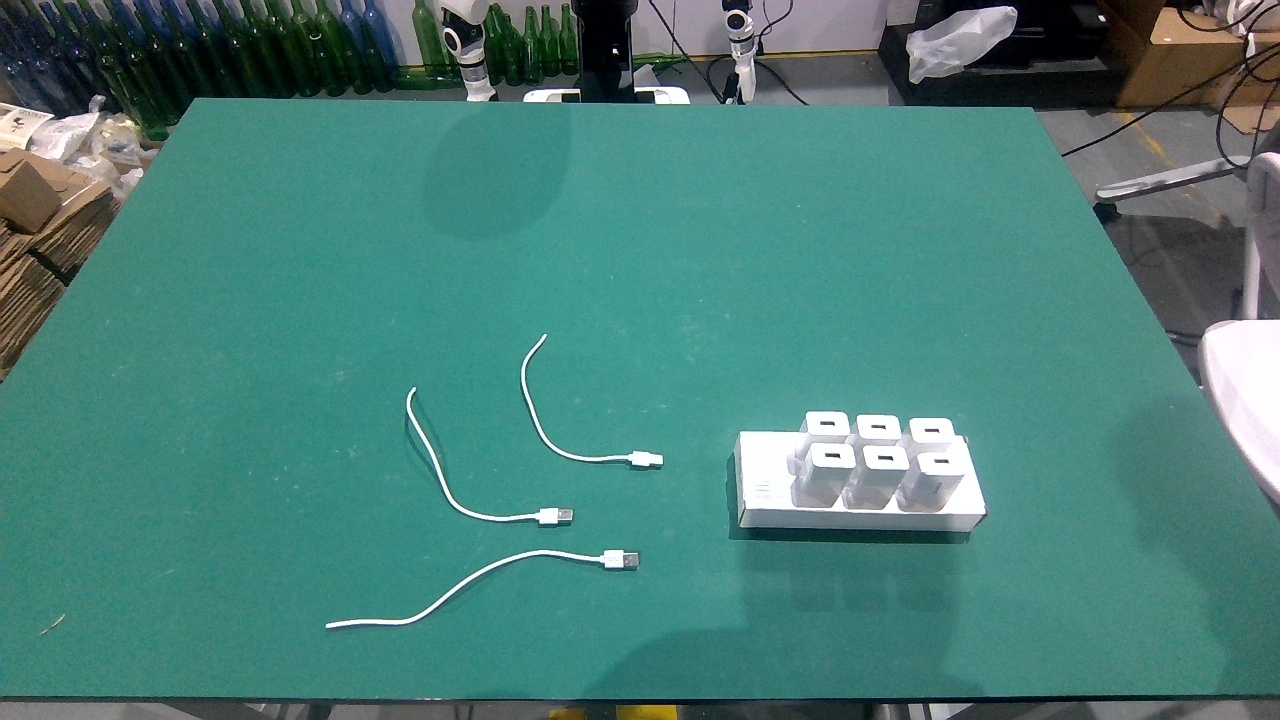usb_a_port: (875, 452, 896, 464), (822, 451, 843, 460), (817, 419, 837, 428), (868, 423, 888, 432), (921, 426, 941, 435), (932, 457, 952, 466)
